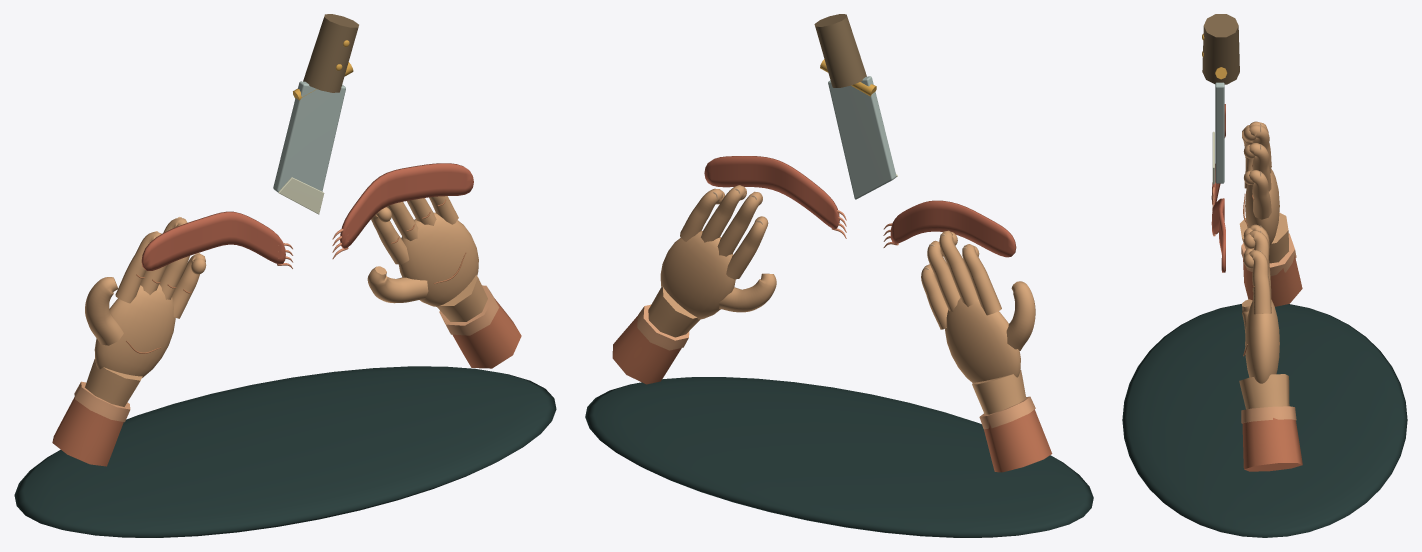
File: parting.glb
3 renders of one model, left to right at view 1: azimuth 30°, elevation 25°; view 2: azimuth 150°, elevation 25°; view 3: azimuth 270°, elevation 25°, orthographic. The views are drawn at different scales.
Parts seen in each view (by area): view 1: parting_surface_00, parting_surface_01, parting_surface_06, parting_surface_02, parting_surface_08, parting_surface_10, parting_surface_03, parting_surface_09; view 2: parting_surface_00, parting_surface_01, parting_surface_06, parting_surface_02, parting_surface_08, parting_surface_10, parting_surface_03; view 3: parting_surface_00, parting_surface_01, parting_surface_02, parting_surface_10, parting_surface_03, parting_surface_08, parting_surface_06.
Boxes of the visible parts, x1=… form: parting_surface_00: x1=14, y1=366, x2=556, y2=537; parting_surface_01: x1=85, y1=196, x2=487, y2=406; parting_surface_06: x1=141, y1=163, x2=473, y2=270; parting_surface_02: x1=52, y1=298, x2=521, y2=466; parting_surface_08: x1=273, y1=81, x2=345, y2=192; parting_surface_10: x1=303, y1=14, x2=358, y2=92; parting_surface_03: x1=74, y1=285, x2=499, y2=422; parting_surface_09: x1=278, y1=177, x2=324, y2=214; parting_surface_00: x1=585, y1=377, x2=1093, y2=537; parting_surface_01: x1=648, y1=185, x2=1035, y2=414; parting_surface_06: x1=704, y1=156, x2=1016, y2=257; parting_surface_02: x1=612, y1=314, x2=1052, y2=472; parting_surface_08: x1=828, y1=76, x2=896, y2=199; parting_surface_10: x1=814, y1=14, x2=866, y2=87; parting_surface_03: x1=637, y1=304, x2=1035, y2=429; parting_surface_00: x1=1122, y1=304, x2=1407, y2=537; parting_surface_01: x1=1239, y1=121, x2=1289, y2=409; parting_surface_02: x1=1242, y1=255, x2=1302, y2=471; parting_surface_10: x1=1202, y1=14, x2=1239, y2=84; parting_surface_03: x1=1241, y1=233, x2=1296, y2=423; parting_surface_08: x1=1215, y1=82, x2=1224, y2=183; parting_surface_06: x1=1211, y1=104, x2=1225, y2=272.
Size of the model in its own units: 4.46 by 3.78 by 2.28.
